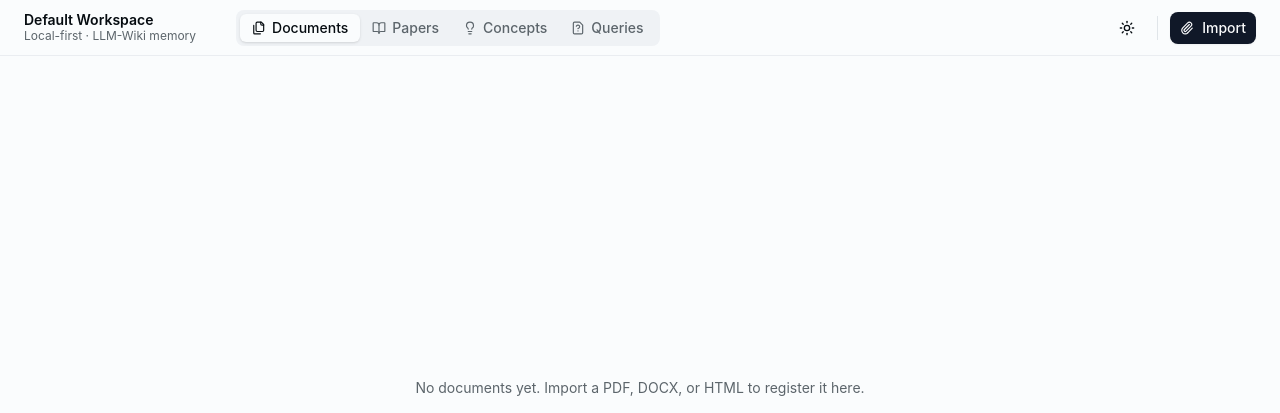
Test case: Workspace tabs › switches the content area when the Concepts header tab is clicked
The image size is (1280, 413).
Expected: the text "No documents yet" is shown, [415, 379, 865, 396]
Click the tab "Concepts" at (505, 28), box [451, 14, 559, 42]
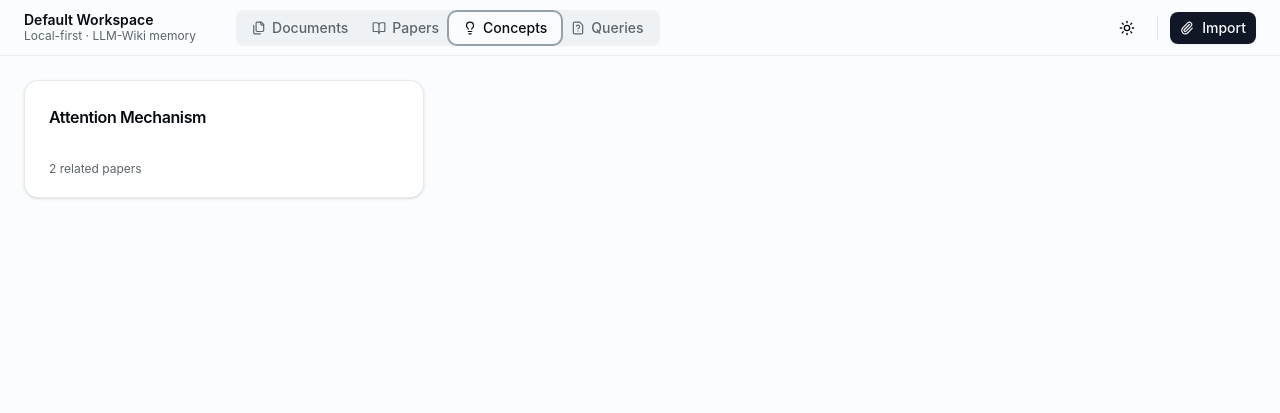
Now the text "Attention Mechanism" is shown, box [49, 107, 206, 127]
